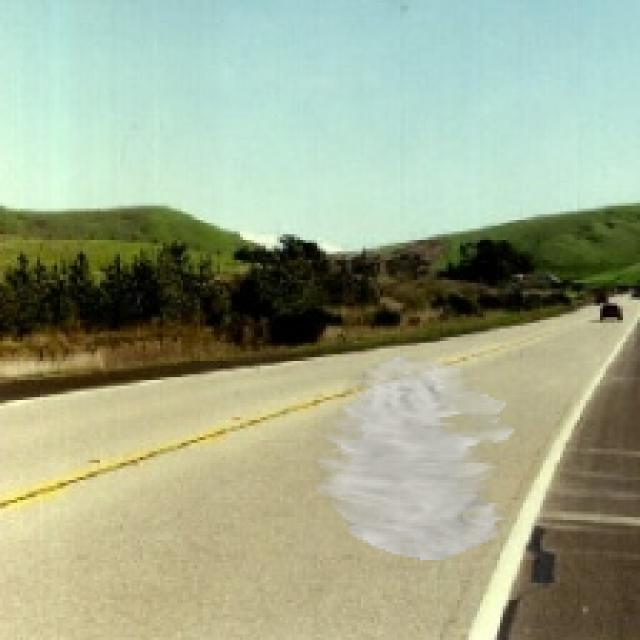Smoke: (312, 357, 514, 560)
